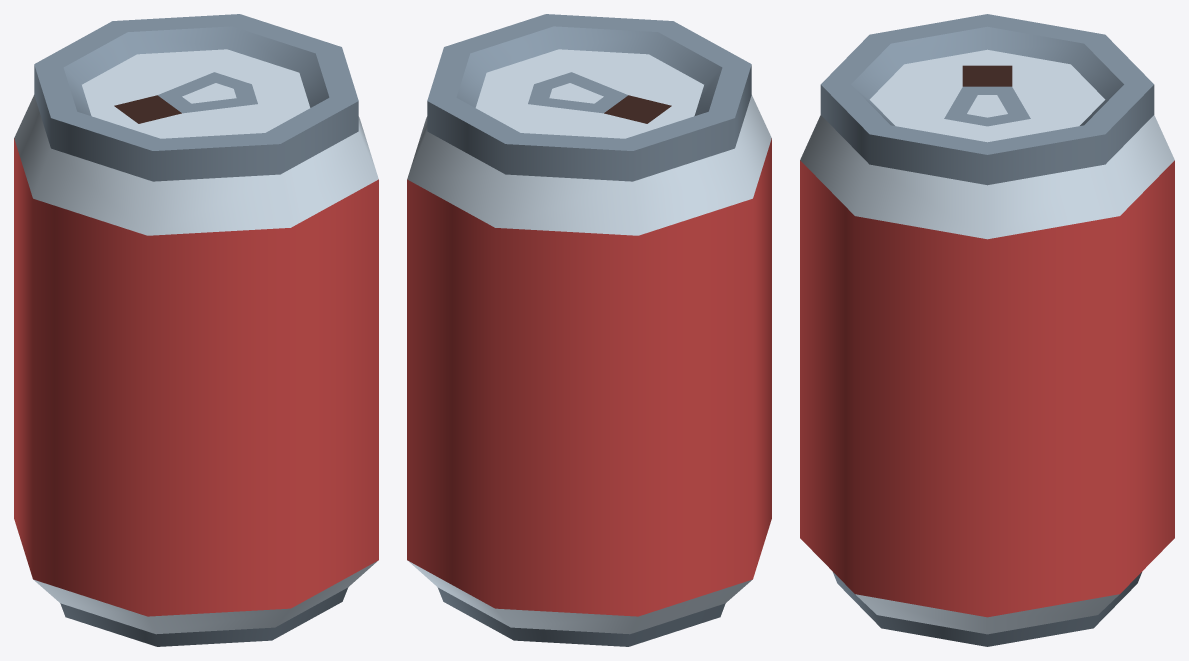
Rendered from sodaCan.obj.
The picture shows the model from 3 angles, left to right: view 1: azimuth 30°, elevation 25°; view 2: azimuth 150°, elevation 25°; view 3: azimuth 270°, elevation 25°; orthographic projection.
Visible parts, largest first — view 1: sodaCan; view 2: sodaCan; view 3: sodaCan.
Part boxes in pixels (x1,y1,x2,y2): sodaCan: (14,14,378,646); sodaCan: (407,14,771,646); sodaCan: (800,14,1174,646).
Size of the model in its own units: 0.2246 by 0.33 by 0.2246.
